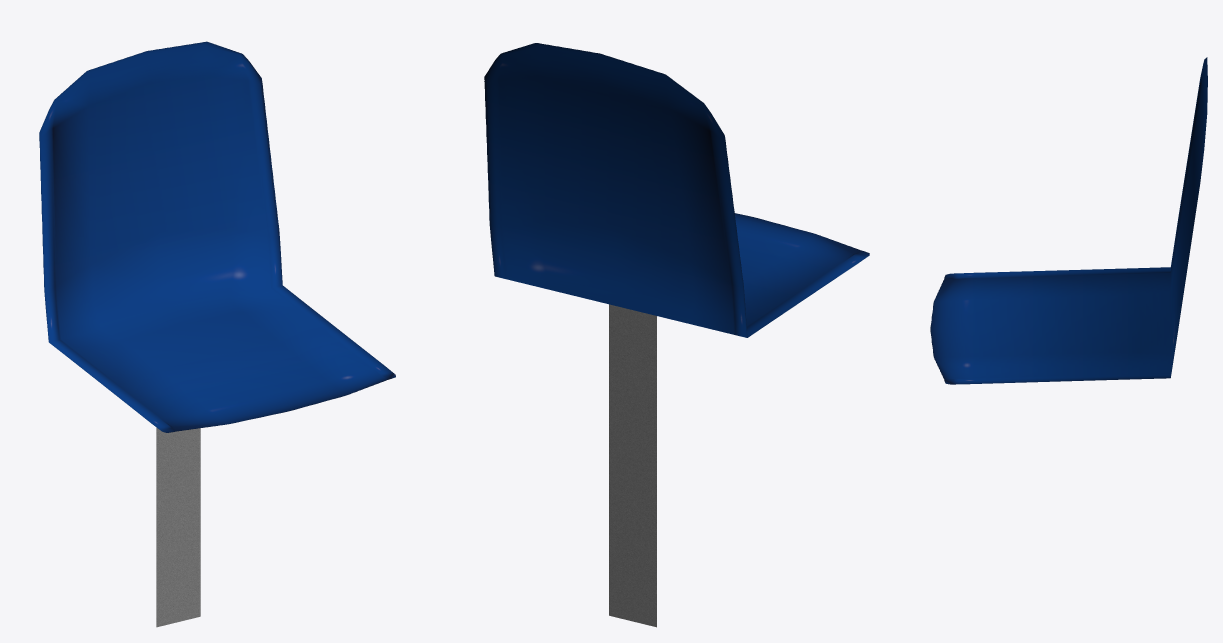
The model's file is chair_billboard.FBX.
The picture shows the model from 3 angles, left to right: view 1: azimuth 30°, elevation 25°; view 2: azimuth 150°, elevation 25°; view 3: azimuth 270°, elevation 25°; orthographic projection. The views are drawn at different scales.
Visible parts, largest first — view 1: chair_billboard; view 2: chair_billboard; view 3: chair_billboard.
Part boxes in pixels (left/top/right/bottom): chair_billboard: left=39, top=41, right=395, bottom=627; chair_billboard: left=484, top=43, right=869, bottom=627; chair_billboard: left=930, top=57, right=1207, bottom=384.
Bounding box in the file's own units: 45.11 × 89.08 × 42.2.
